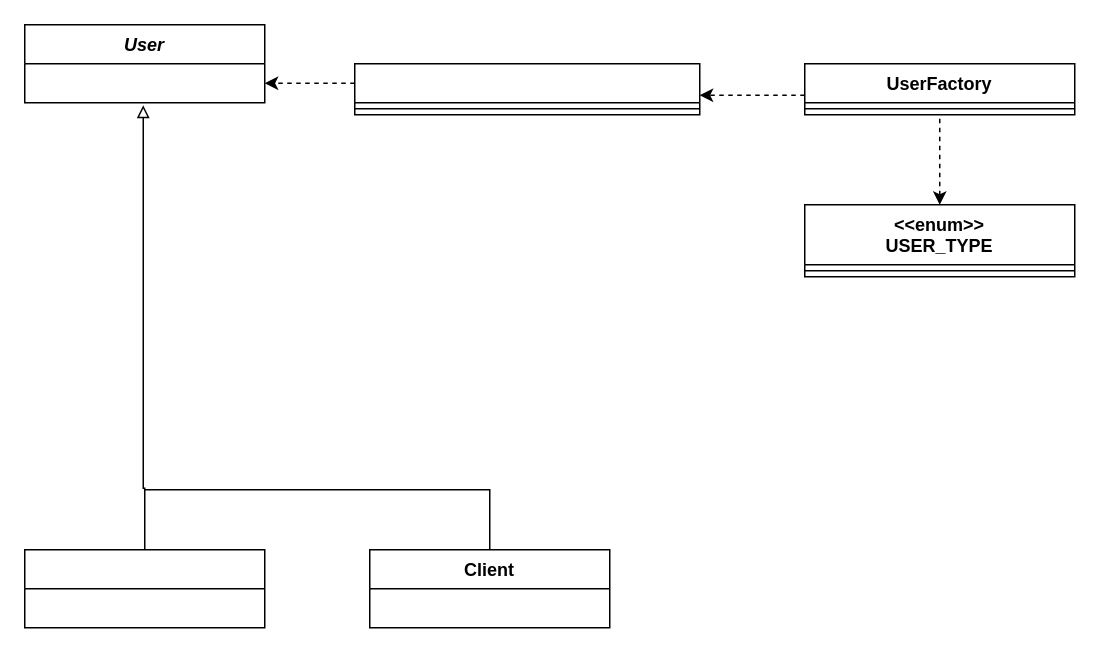
The diagram is 1100 pixels wide and 653 high, and some of its shapes have lost their labels. The shapes that lost their labels are listed below. From the top down, each one's centre as x and y in pixels, then its label:
At (x=526, y=88): "UserBuilder".
At (x=144, y=588): "Employee".
